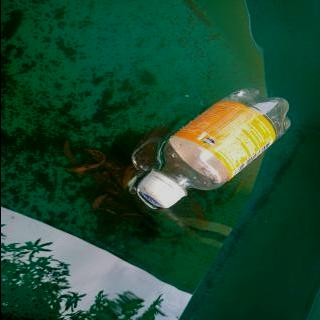bottle: (132, 85, 295, 212)
